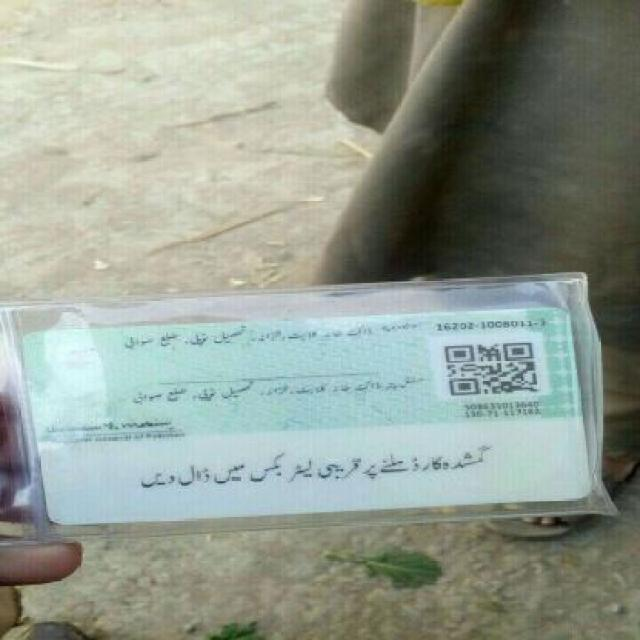Back: (15, 306, 611, 512)
